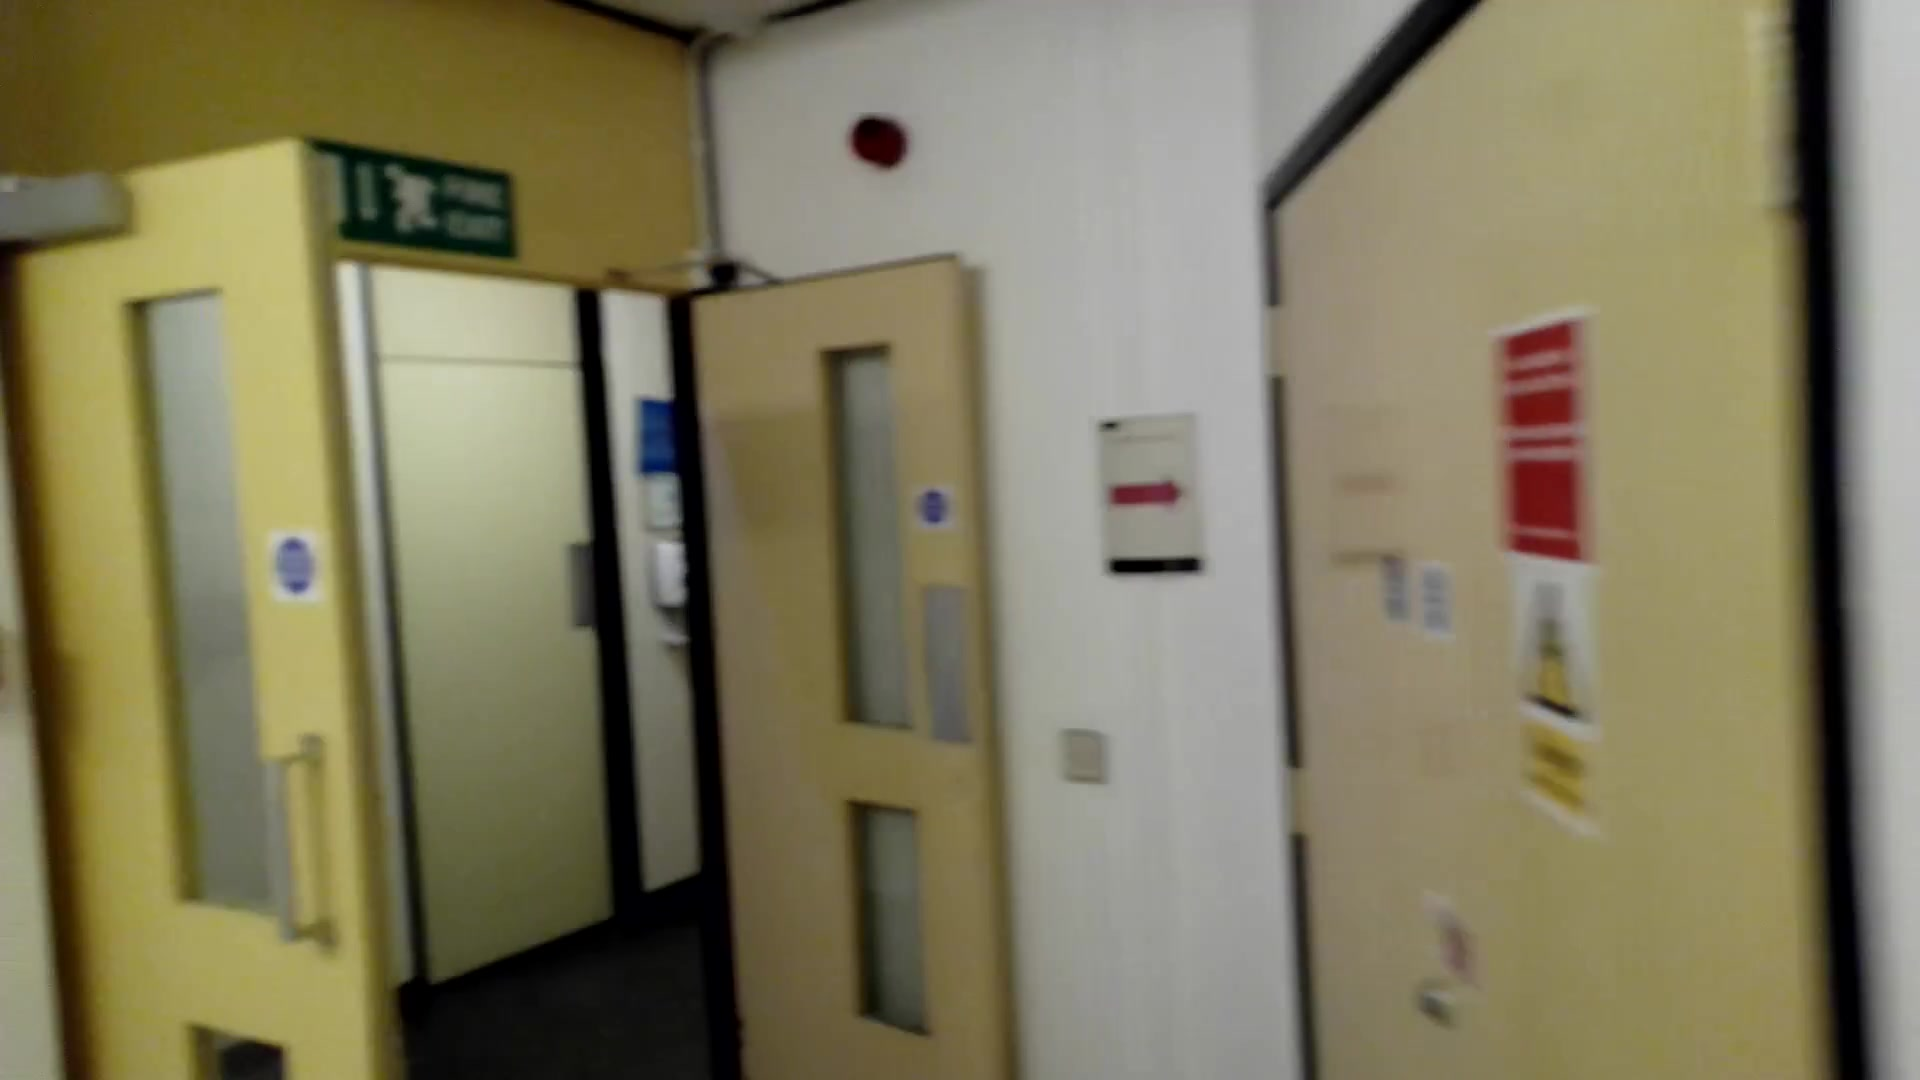Door: (653, 245, 1062, 1080), (47, 137, 349, 1080)
